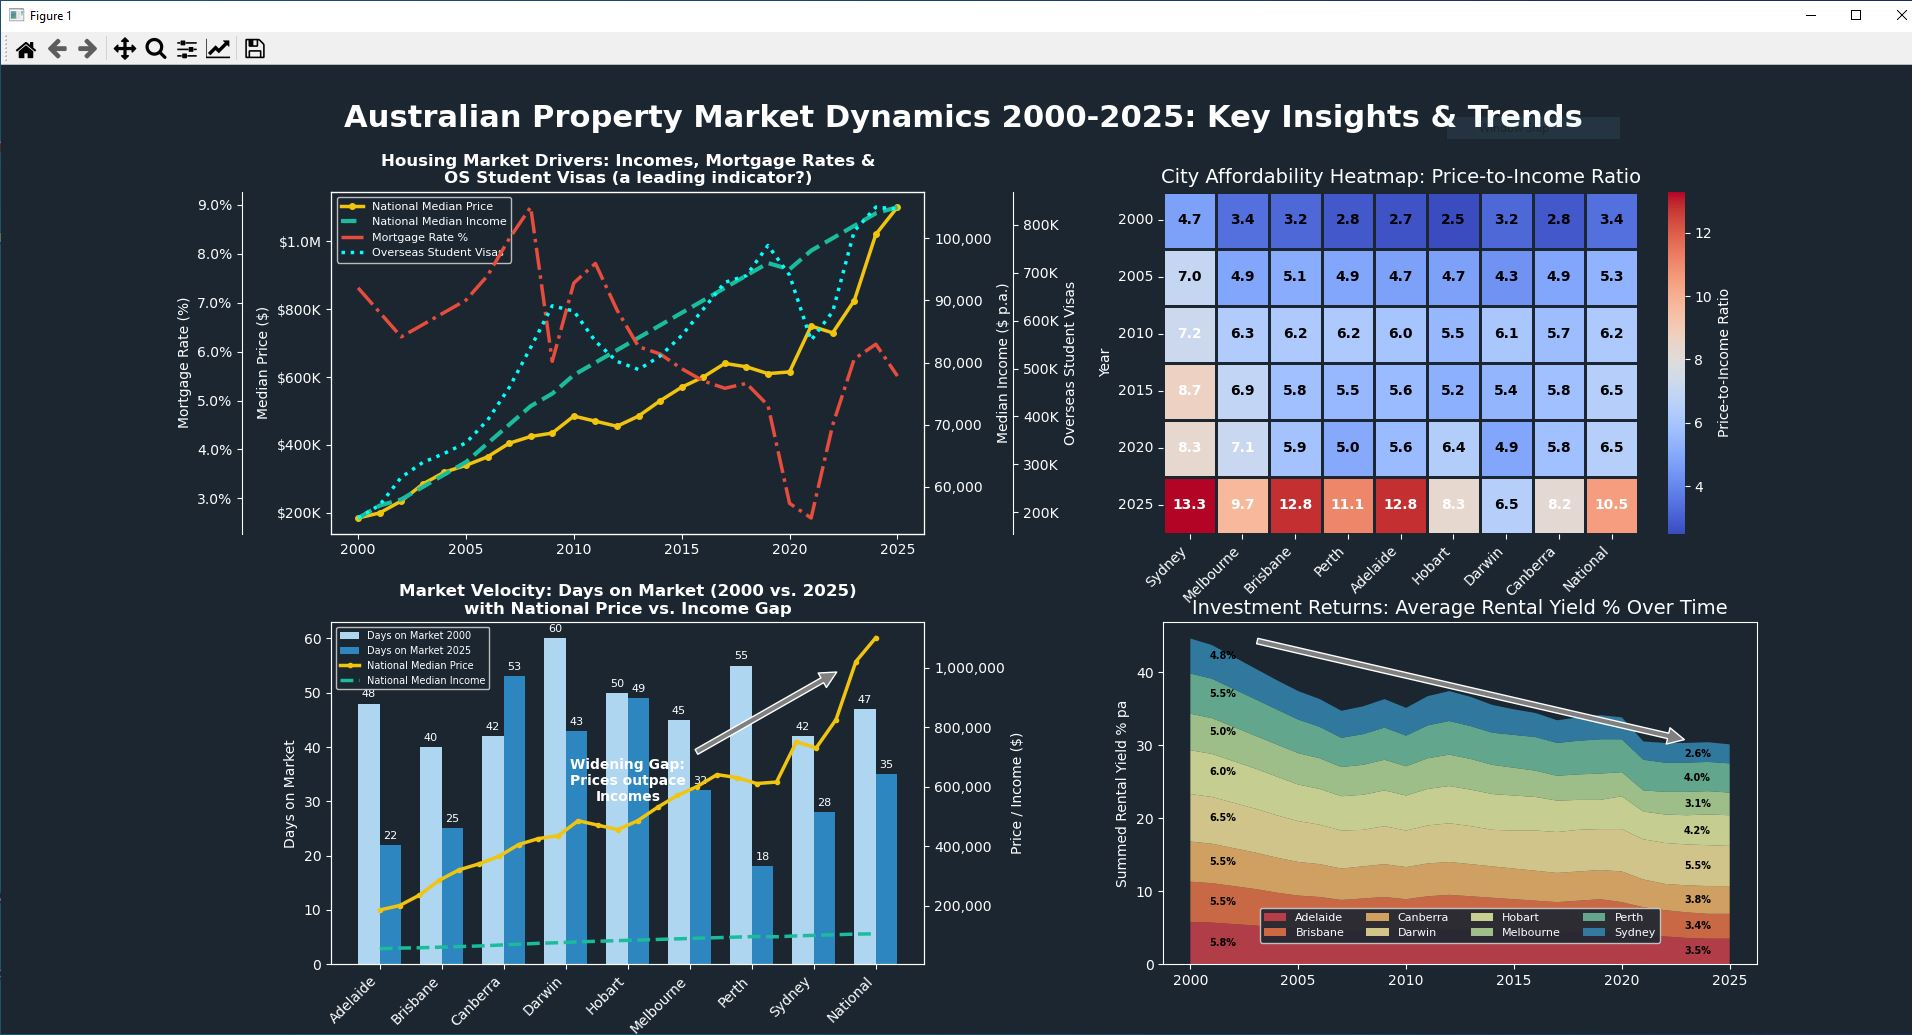

What the dashboard file says about the page in this screenshot:
{"tool":"powerbi","page":{"name":"Property Market Overview","canvas":[1920,1080],"ordinal":0},"visuals":[{"type":"lineChart","title":"Median Price & Ave Income","fields":{"Category":["DimYear.Year"],"Y":["Table.MedianPrice"],"Y2":["Table.MedianIncome"]},"box":[30,80,440,420],"z":0},{"type":"lineChart","title":"Mortgage Rates & Student Visas","fields":{"Category":["DimYear.Year"],"Y":["Table.MortgageRate"],"Y2":["Table.StudentNumbers"]},"box":[480,80,440,420],"z":1000},{"type":"textbox","title":"Housing Market Drivers: Incomes, Mortgage Rates & OS Student Visas (a leading indicator?)","box":[30,30,890,40],"z":1001},{"type":"pivotTable","title":"City Affordability Heatmap: Price-to-Income Ratio","fields":{"Rows":["HeatmapData.Year","PropertyMetrics.Year","HeatmapData.Metric"],"Columns":["DimCity.City"],"Values":["Table.PriceToIncomeRatio"]},"box":[928,80,960,816],"z":1002},{"type":"clusteredColumnChart","title":"Days on Market","fields":{"Category":["DimCity.City"],"Y":["Table.DOM_2000","Table.DOM_2025"]},"box":[480,512,440,384],"z":1003},{"type":"stackedAreaChart","fields":{"Category":["DimYear.Year"],"Y":["Table.RentalYield"],"Series":["DimCity.City"]},"box":[32,512,440,384],"z":1004}]}

Visuals, with their boxes on the page's 1920x1080 design canvas (x1, y1, x2, y2). These are canvas units, not pixel positions in the 1912x1035 screenshot, which may show the page scaled, cropped or inside an application window:
"Median Price & Ave Income" lineChart: region(30, 80, 470, 500)
"Mortgage Rates & Student Visas" lineChart: region(480, 80, 920, 500)
"Housing Market Drivers: Incomes, Mortgage Rates & OS Student Visas (a leading indicator?)" textbox: region(30, 30, 920, 70)
"City Affordability Heatmap: Price-to-Income Ratio" pivotTable: region(928, 80, 1888, 896)
"Days on Market" clusteredColumnChart: region(480, 512, 920, 896)
stackedAreaChart - DimYear.Year x Table.RentalYield: region(32, 512, 472, 896)
